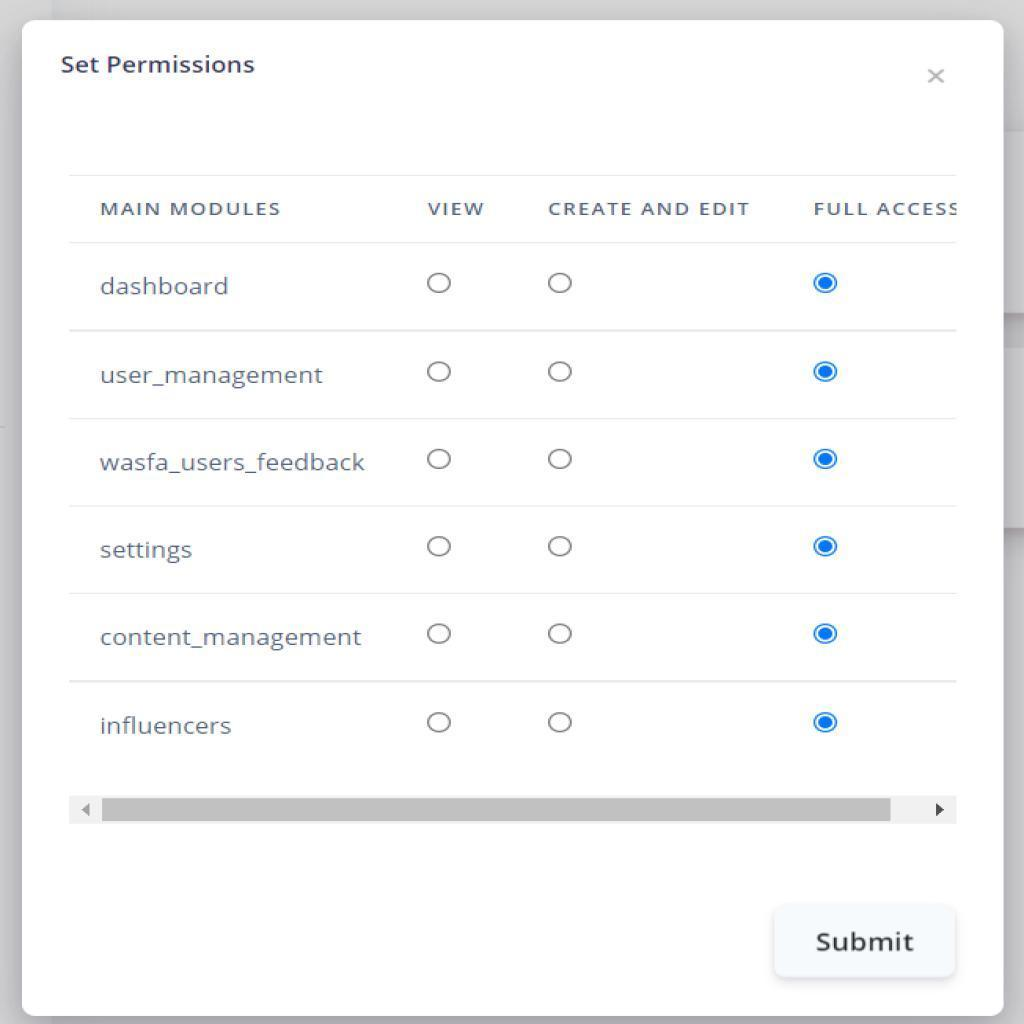button: (776, 905, 956, 979)
radio: (426, 618, 459, 651), (425, 445, 458, 477), (809, 531, 842, 563), (544, 360, 579, 389), (543, 707, 579, 735), (812, 446, 844, 476), (811, 621, 843, 651), (425, 534, 456, 564), (811, 710, 843, 739), (811, 359, 842, 388), (424, 270, 457, 297), (545, 533, 575, 561), (546, 271, 577, 298), (811, 270, 842, 296), (546, 447, 575, 474), (425, 709, 455, 735), (547, 621, 577, 646), (424, 362, 455, 386)
